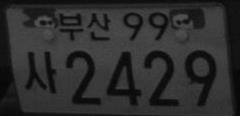2: (142, 49, 180, 107), (64, 49, 101, 106)
4: (105, 50, 141, 106)
9: (183, 49, 218, 108), (122, 11, 144, 41), (147, 11, 169, 41)
부산_H: (57, 12, 111, 41)
사: (22, 50, 57, 94)
